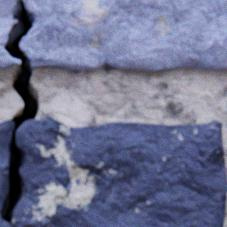broken_brick: (0, 118, 226, 226), (19, 0, 226, 72), (0, 0, 20, 70), (0, 121, 14, 210)
crack: (0, 0, 40, 224)
